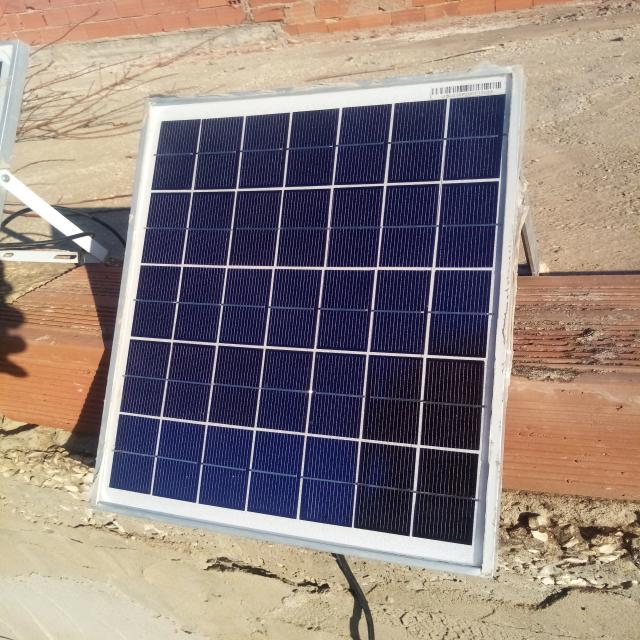no faulty: (92, 71, 523, 574)
